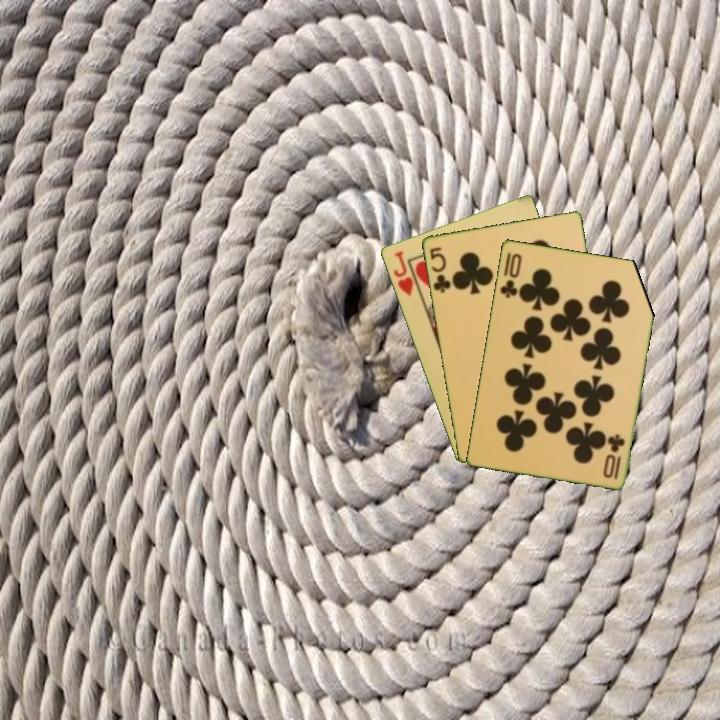10c: (496, 250, 524, 301), (605, 430, 628, 482)
5c: (426, 243, 454, 295)
Jh: (389, 247, 416, 299)
